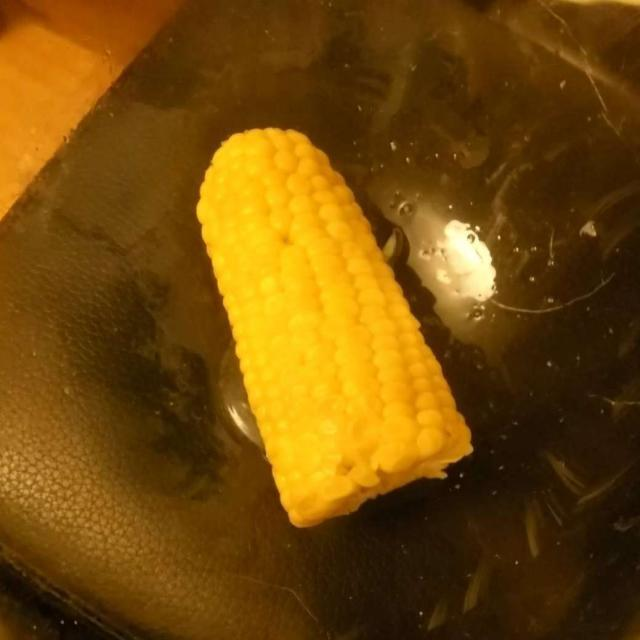corn: (201, 131, 462, 510)
